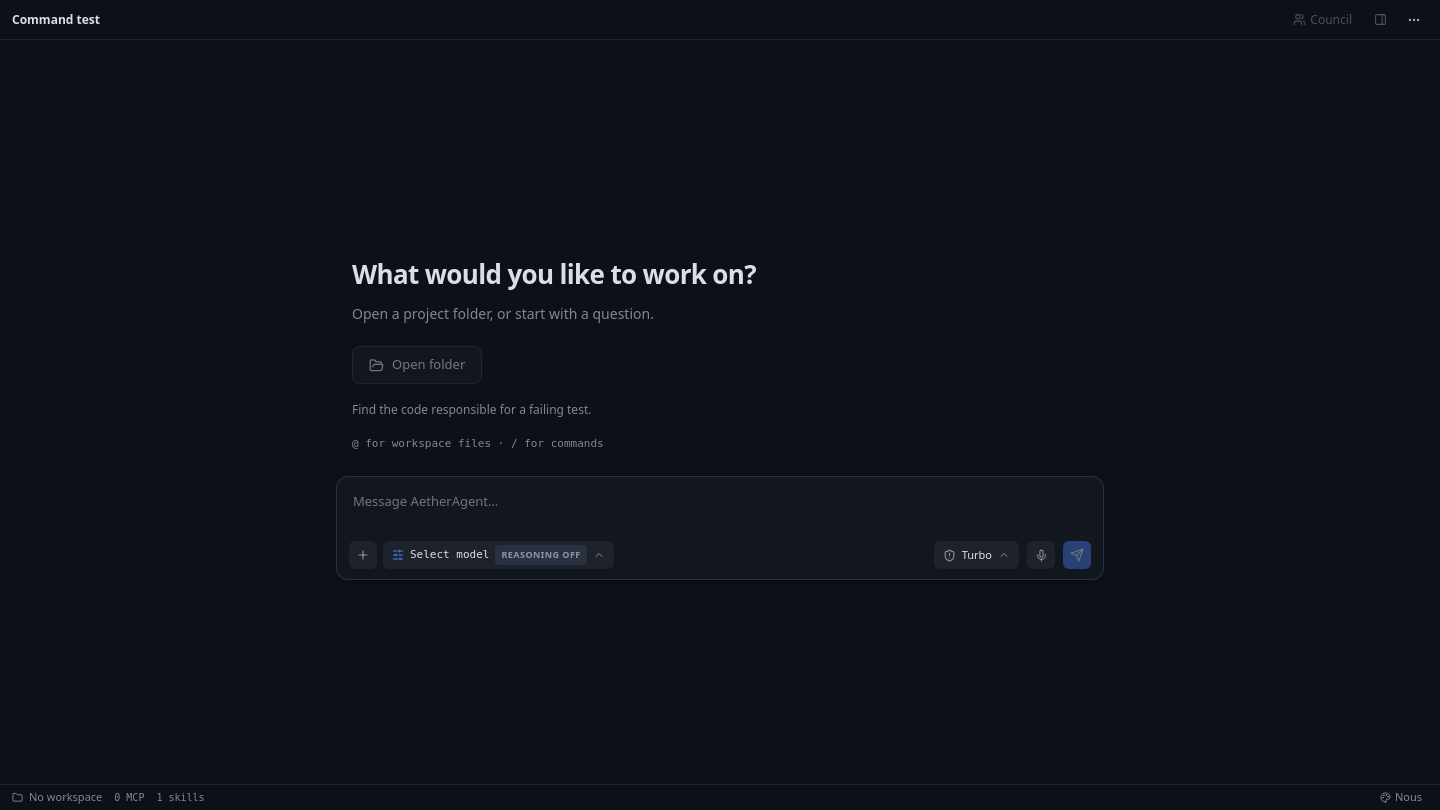
ChatCanvas selected skills › selects a discovered skill from slash autocomplete without submitting a template
Type "/ponytail" into the text box labelled "Message AetherAgent" at [720, 508], box 337,477 -> 1103,539
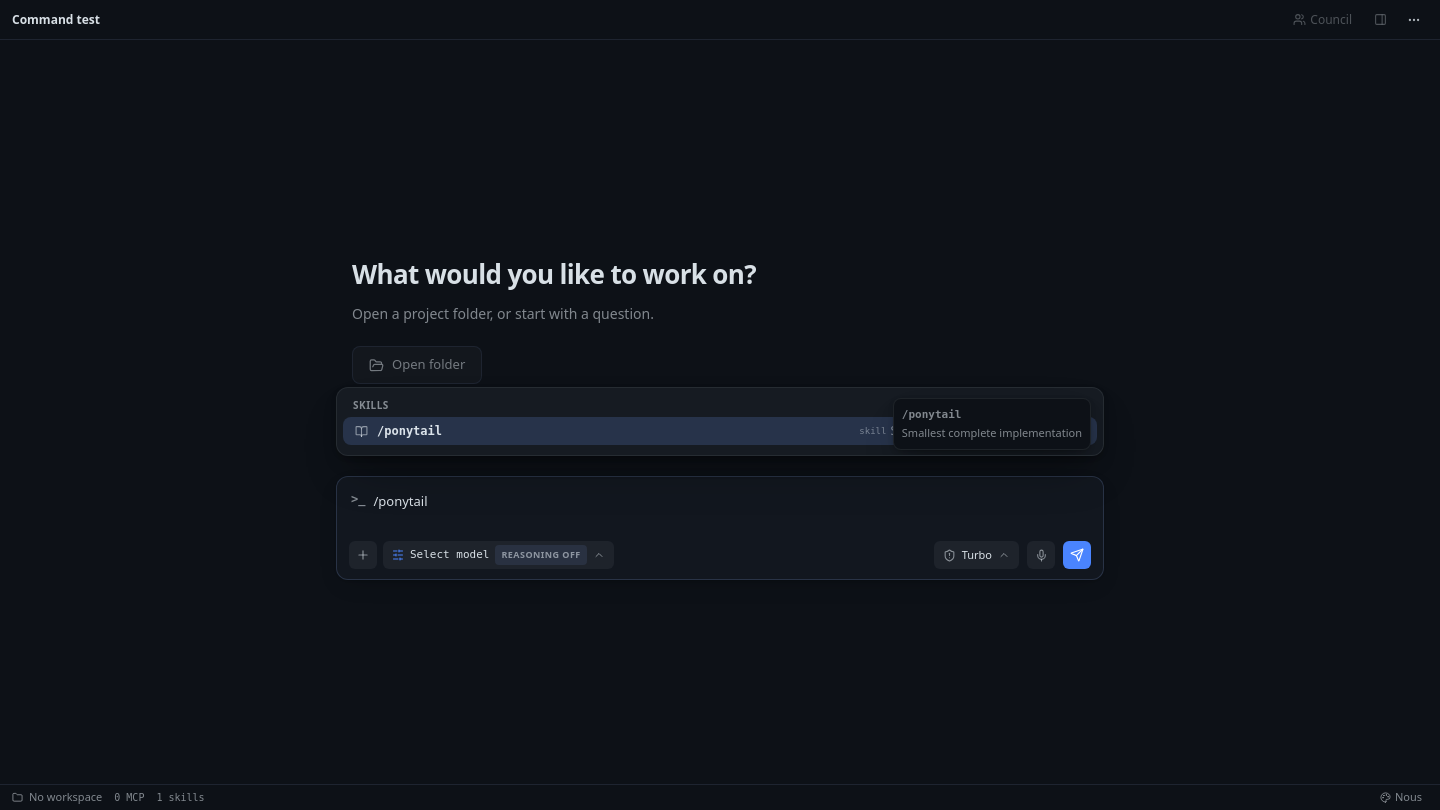
Expected: the button "/ponytail skill Smallest complete implementation" is shown, 343,417 -> 1097,445
Press Tab in the text box named "Message AetherAgent", box 366,477 -> 1103,539
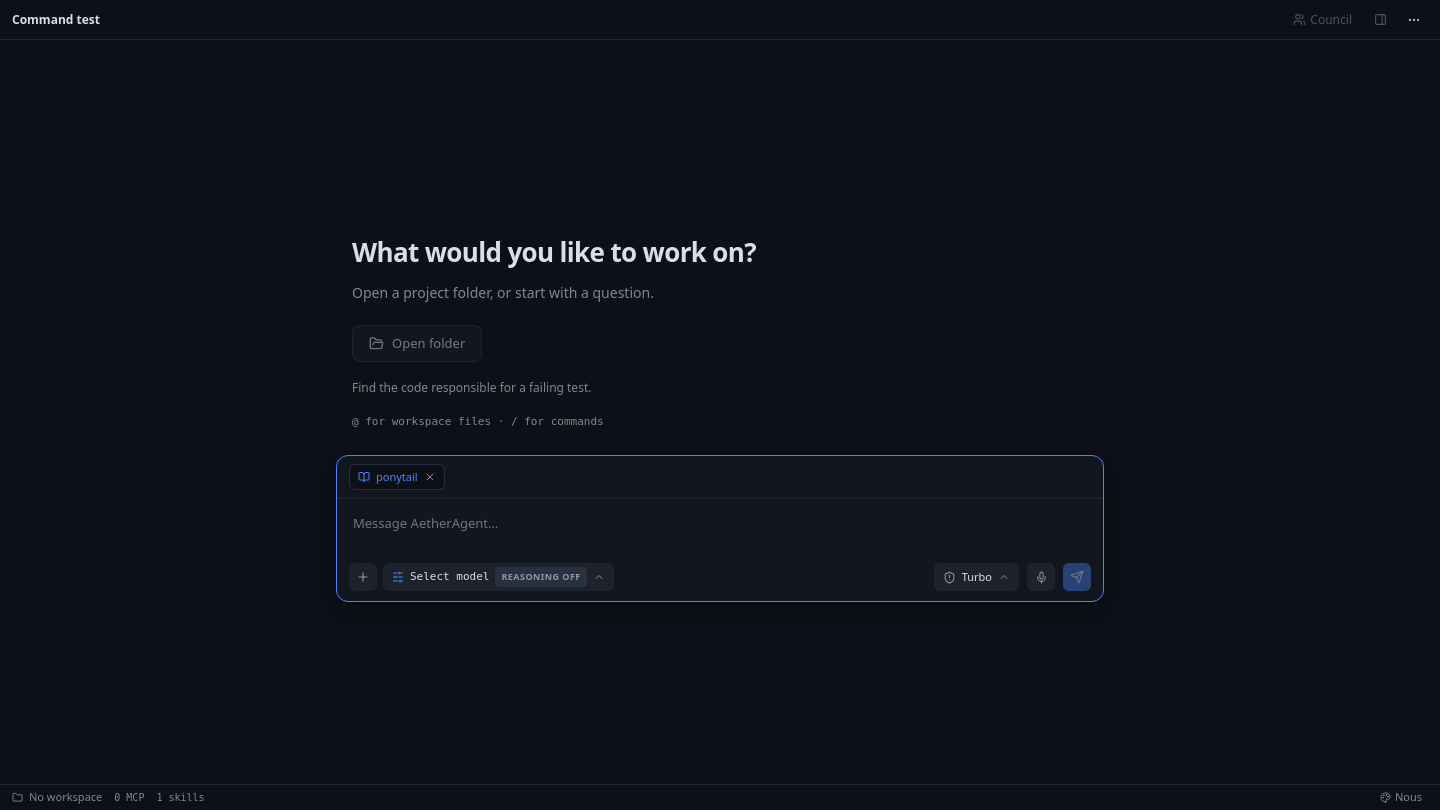
Expected: the text box labelled "Message AetherAgent" is empty, 337,499 -> 1103,561
Expected: the button named "Remove skill ponytail" is shown, 424,471 -> 436,483
